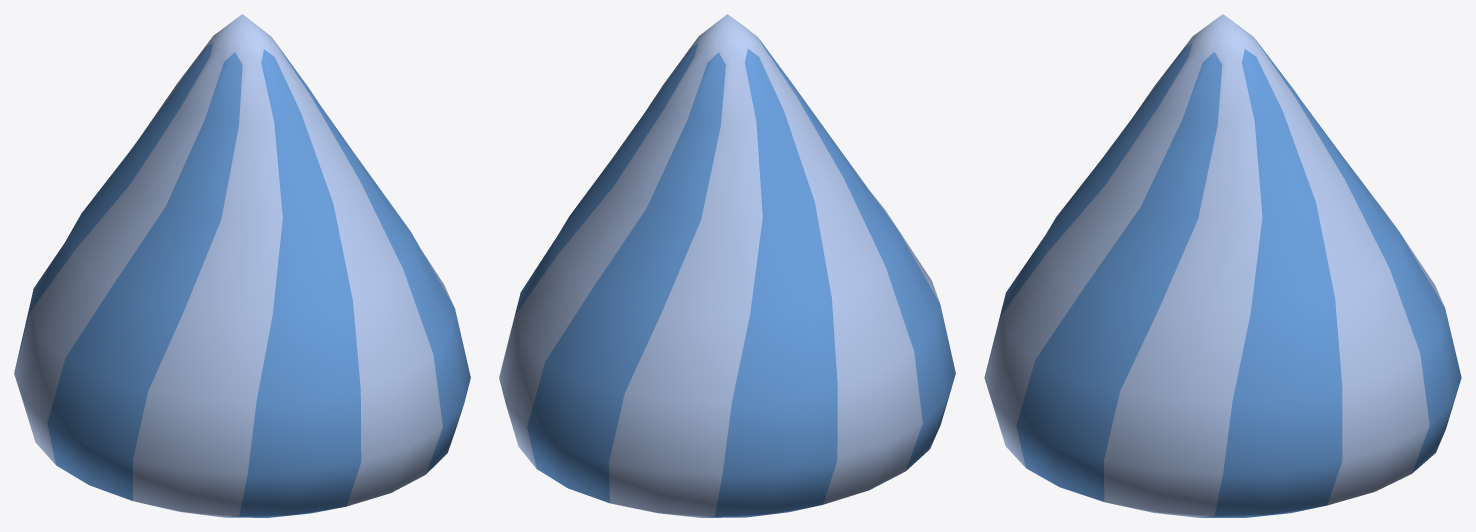
Rendered from Candy_C_03.fbx.
3 views of the same model, side by side, from view 1: azimuth 30°, elevation 25°; view 2: azimuth 150°, elevation 25°; view 3: azimuth 270°, elevation 25° (orthographic).
Parts seen in each view (by area): view 1: Candy_C_03_LOD0; view 2: Candy_C_03_LOD0; view 3: Candy_C_03_LOD0.
Part boxes in pixels (x1,y1,x2,y2): Candy_C_03_LOD0: [14, 14, 470, 517]; Candy_C_03_LOD0: [499, 14, 955, 517]; Candy_C_03_LOD0: [984, 14, 1461, 517].
Size of what is drawn, in the model's own units: 312 by 330 by 328.
